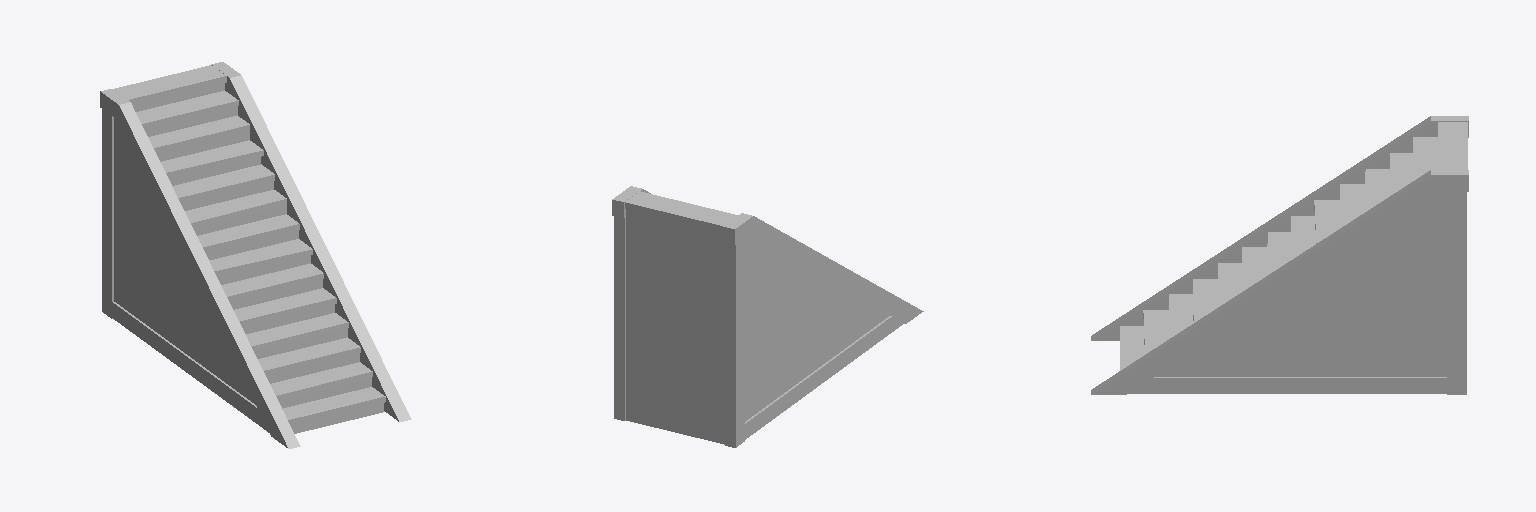
Rendered from Stair_Interior_Solid.obj.
The picture shows the model from 3 angles: view 1: azimuth 30°, elevation 25°; view 2: azimuth 150°, elevation 25°; view 3: azimuth 270°, elevation 25°; orthographic projection.
Visible parts, largest first — view 1: Stair_Interior_Solid; view 2: Stair_Interior_Solid; view 3: Stair_Interior_Solid.
Part boxes in pixels (x1,y1,x2,y2): Stair_Interior_Solid: (100, 62, 411, 448); Stair_Interior_Solid: (612, 186, 923, 447); Stair_Interior_Solid: (1091, 116, 1468, 394).
Bounding box in the file's own units: 1.77 × 3.05 × 4.71.